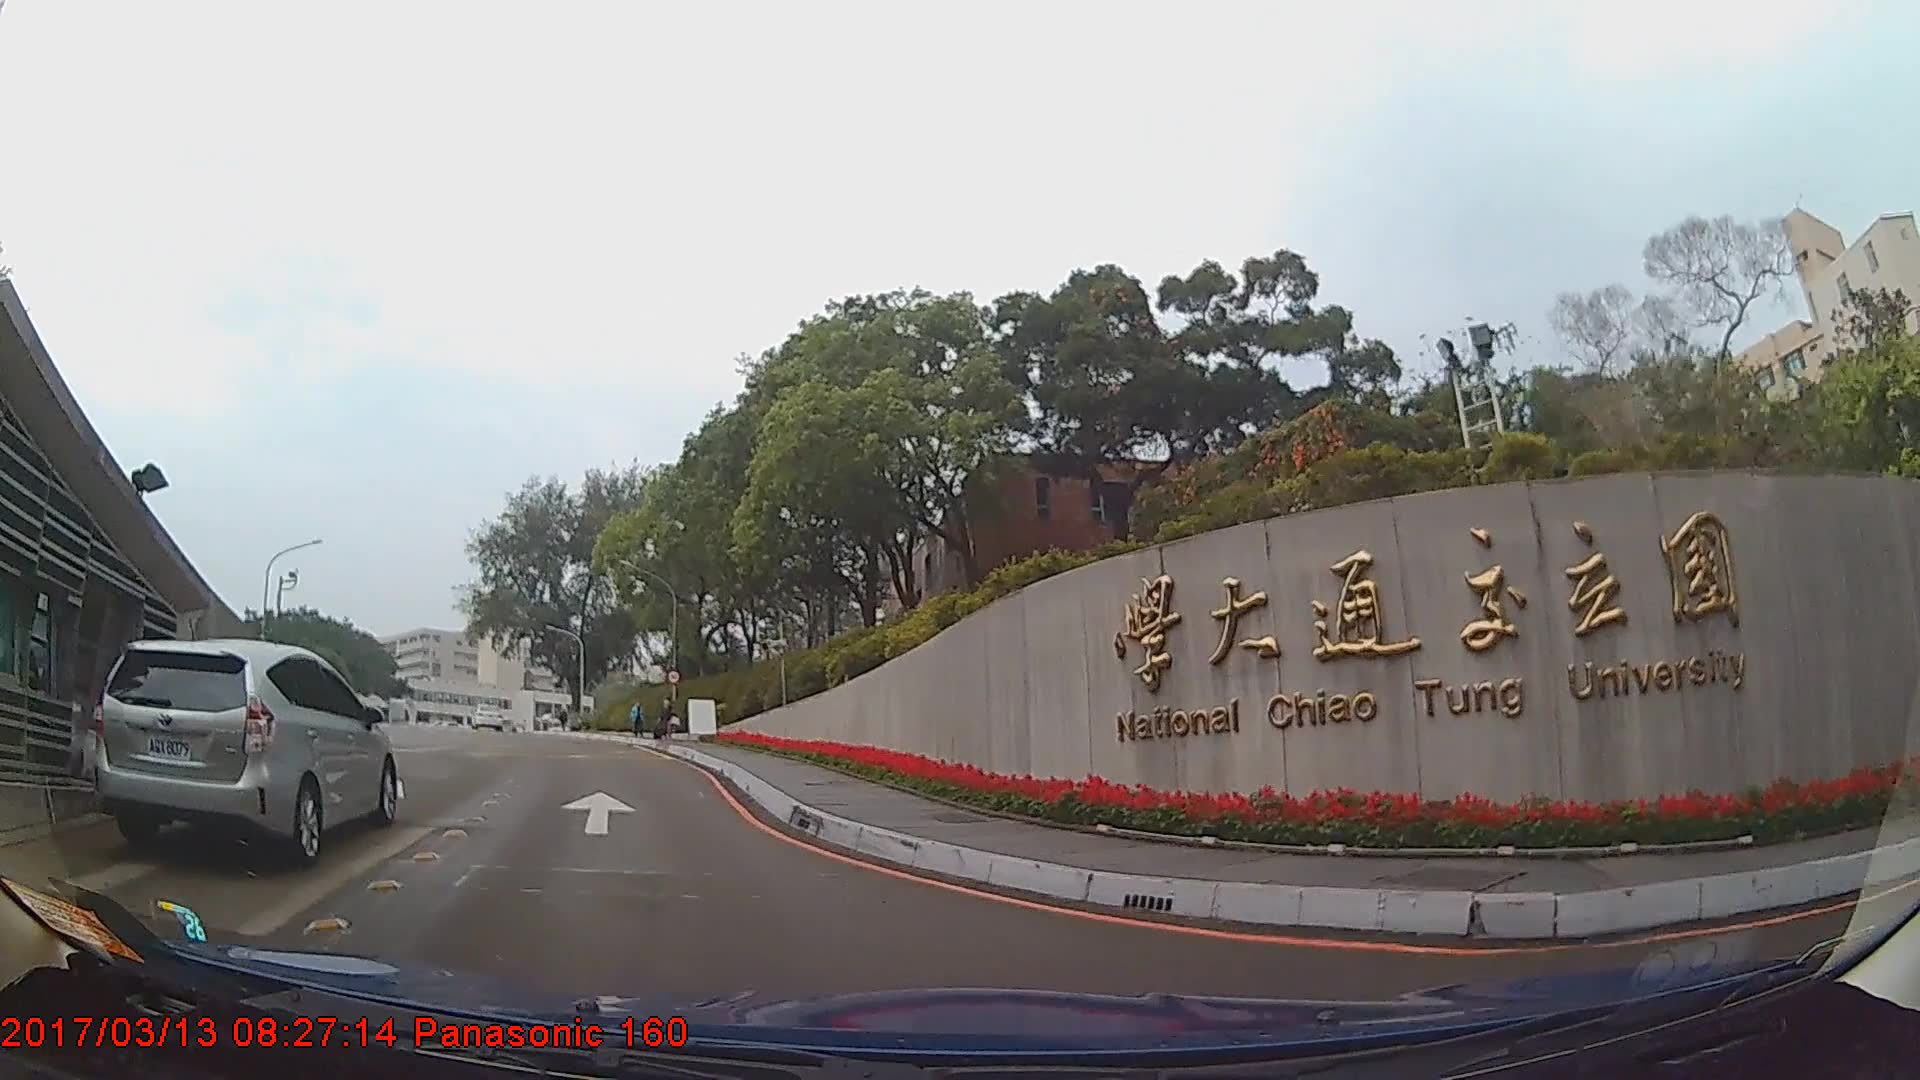vehicle: (88, 634, 397, 860), (467, 702, 504, 731)
